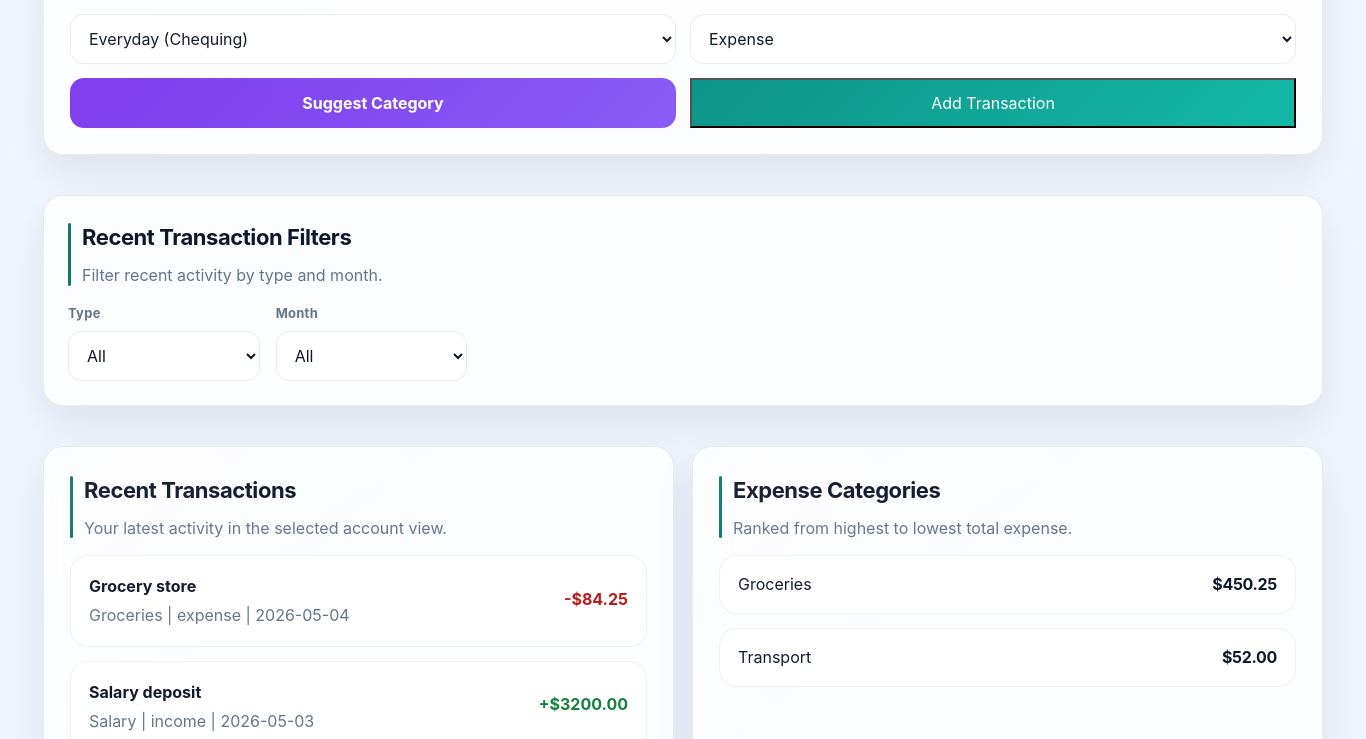
Test case: DashboardPage › filters recent transactions by type and month
The width and height of the screenshot is (1366, 739).
(page scrolled)
Select "Income" in the 3rd dropdown at [164, 356], box [68,331,260,381]
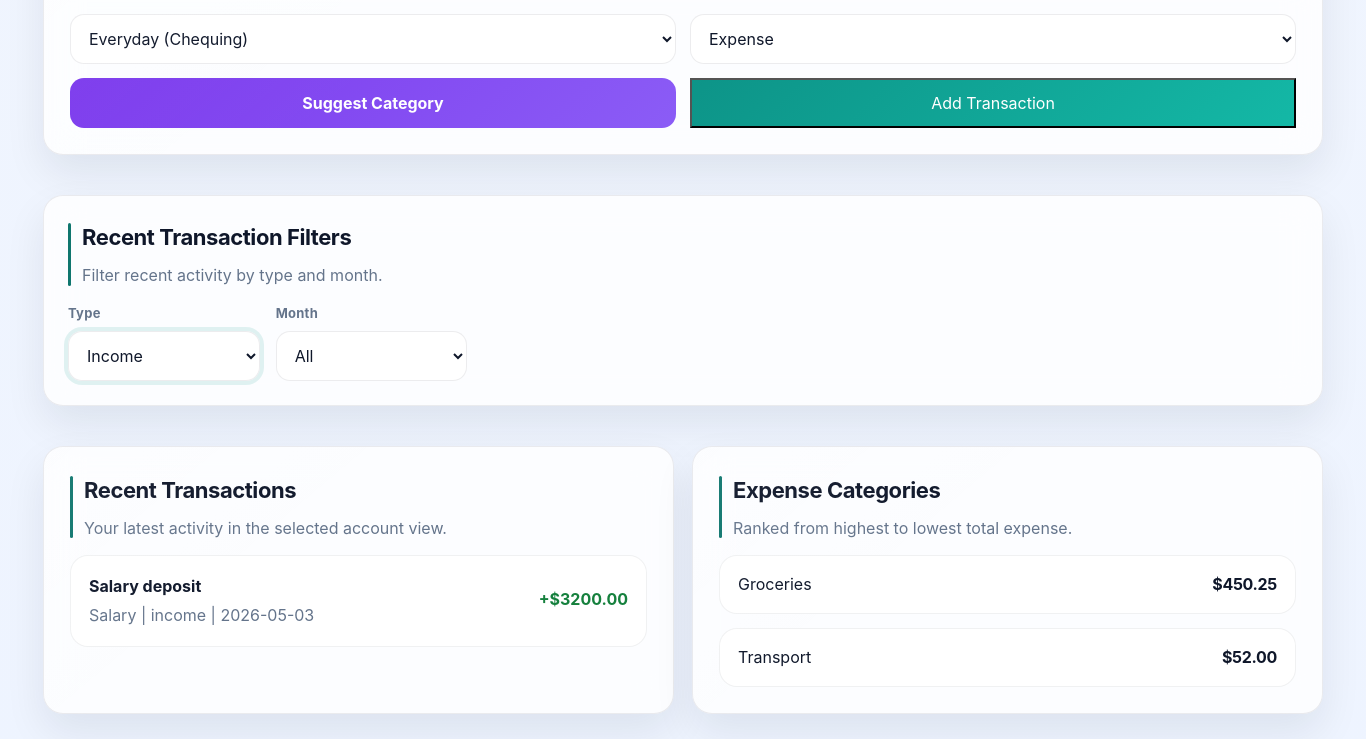
Expected: the text "Salary deposit" is shown, [89,576,201,596]
Expected: the text "Grocery store" is gone
Select "All" in the 3rd dropdown at [164, 356], box [68,331,260,381]
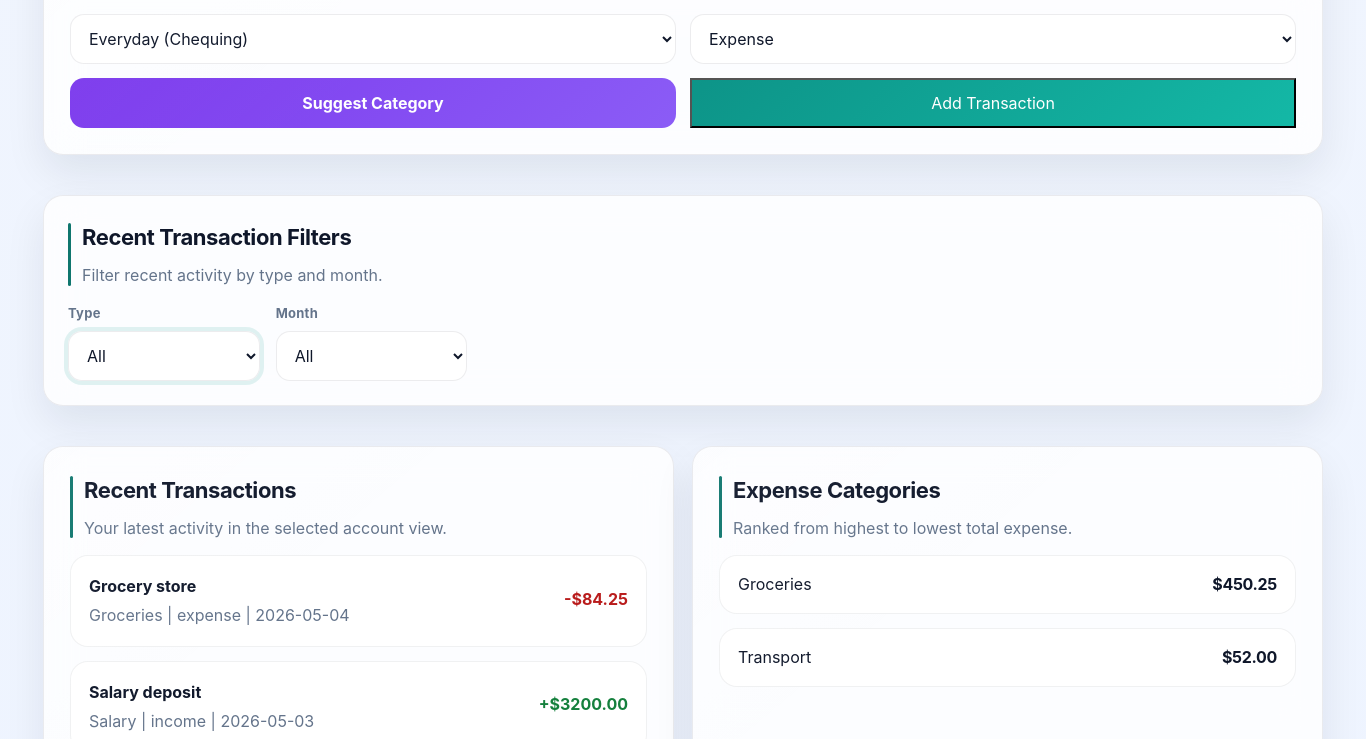
Select "2026-04" in the 4th dropdown at [372, 356], box [276,331,467,381]
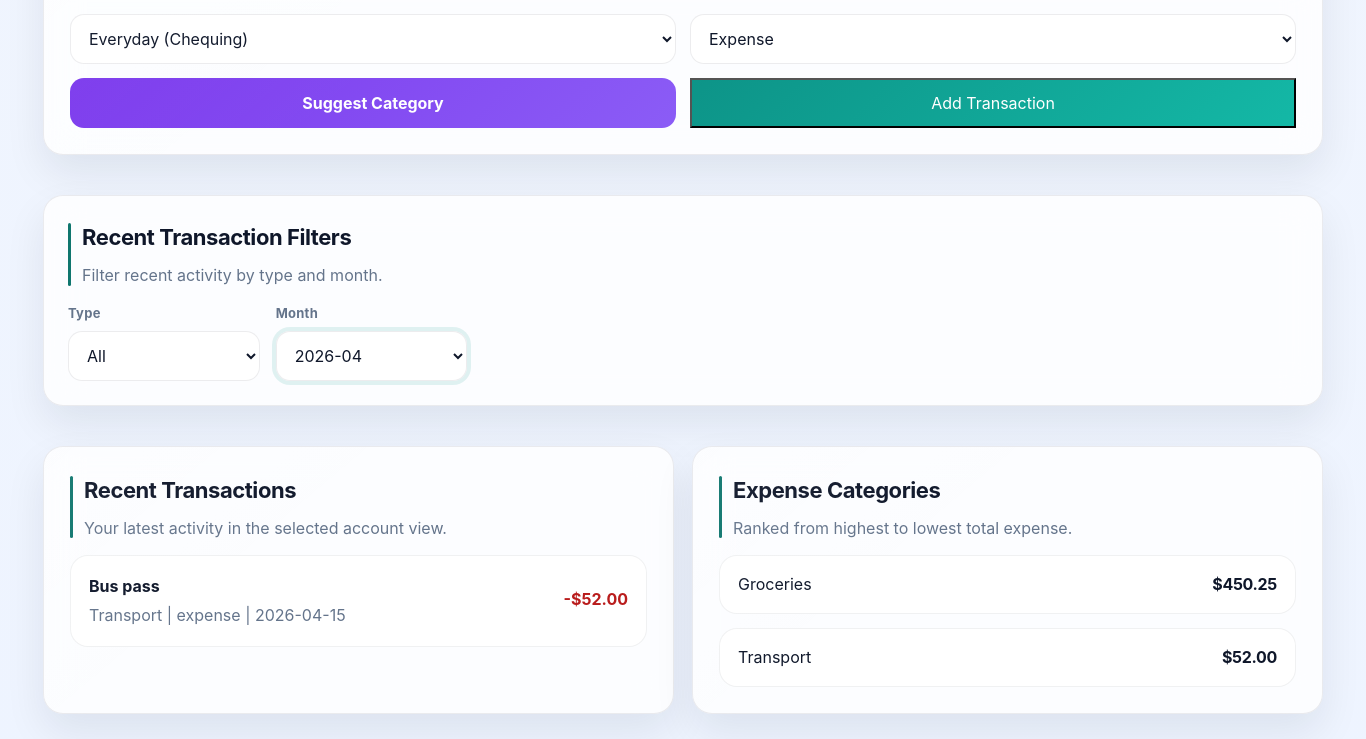
Expected: the text "Bus pass" is shown, [89,576,160,596]
Expected: the text "Salary deposit" is gone
